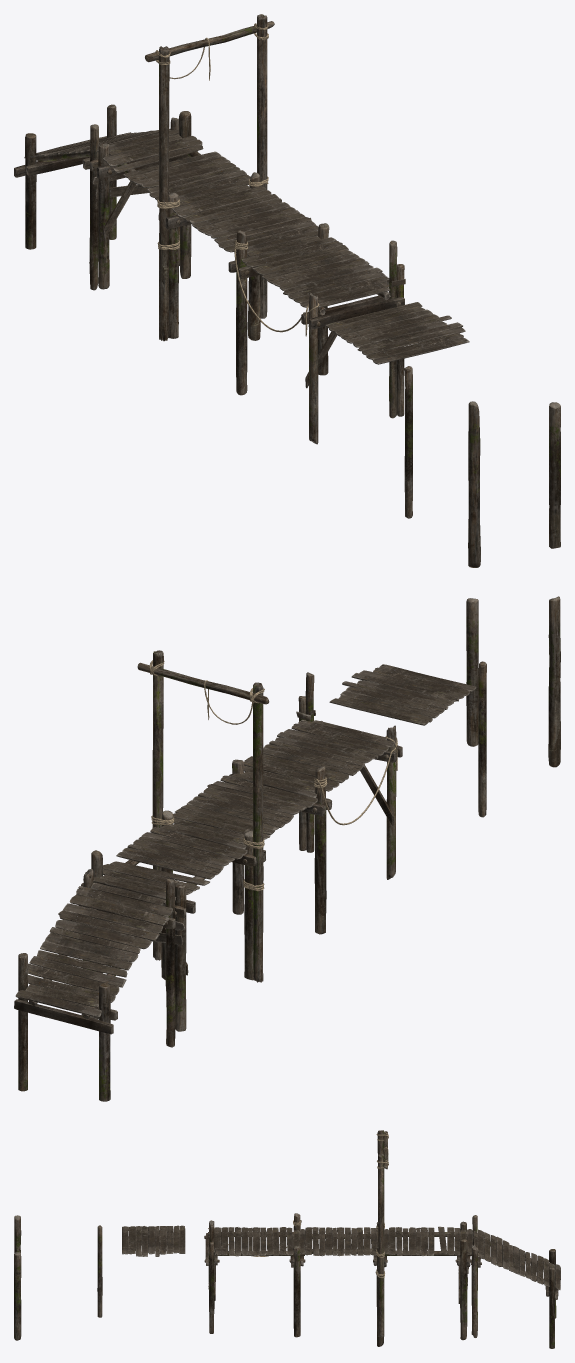
Rendered from modular_wooden_pier.glb.
3 renders of one model, top to bottom at view 1: azimuth 30°, elevation 25°; view 2: azimuth 150°, elevation 25°; view 3: azimuth 270°, elevation 25°, orthographic. The views are drawn at different scales.
Parts seen in each view (by area): view 1: modular_wooden_pier_section_01, modular_wooden_pier_section_03, modular_wooden_pier_section_02, modular_wooden_pier_section_05, modular_wooden_pier_section_04, modular_wooden_pier_planks, modular_wooden_pier_poles; view 2: modular_wooden_pier_section_04, modular_wooden_pier_section_01, modular_wooden_pier_section_03, modular_wooden_pier_section_02, modular_wooden_pier_section_05, modular_wooden_pier_poles, modular_wooden_pier_planks; view 3: modular_wooden_pier_section_01, modular_wooden_pier_section_04, modular_wooden_pier_section_03, modular_wooden_pier_section_02, modular_wooden_pier_planks, modular_wooden_pier_section_05, modular_wooden_pier_poles.
Part boxes in pixels (bbox=[...]): modular_wooden_pier_section_01: bbox=[228, 223, 405, 444]; modular_wooden_pier_section_03: bbox=[89, 111, 250, 289]; modular_wooden_pier_section_02: bbox=[158, 172, 318, 340]; modular_wooden_pier_section_05: bbox=[145, 14, 274, 341]; modular_wooden_pier_section_04: bbox=[14, 104, 179, 290]; modular_wooden_pier_planks: bbox=[325, 302, 469, 364]; modular_wooden_pier_poles: bbox=[404, 366, 560, 567]; modular_wooden_pier_section_04: bbox=[14, 868, 175, 1101]; modular_wooden_pier_section_01: bbox=[229, 672, 402, 934]; modular_wooden_pier_section_03: bbox=[81, 827, 247, 1031]; modular_wooden_pier_section_02: bbox=[160, 775, 317, 980]; modular_wooden_pier_section_05: bbox=[137, 650, 269, 982]; modular_wooden_pier_poles: bbox=[466, 596, 560, 817]; modular_wooden_pier_planks: bbox=[329, 664, 476, 725]; modular_wooden_pier_section_01: bbox=[204, 1213, 305, 1337]; modular_wooden_pier_section_04: bbox=[471, 1215, 560, 1348]; modular_wooden_pier_section_03: bbox=[376, 1221, 473, 1340]; modular_wooden_pier_section_02: bbox=[292, 1222, 389, 1346]; modular_wooden_pier_planks: bbox=[122, 1225, 185, 1256]; modular_wooden_pier_section_05: bbox=[375, 1130, 388, 1337]; modular_wooden_pier_poles: bbox=[14, 1215, 102, 1340].
Bounding box in the file's own units: 3.1 × 7.52 × 19.03.
Materials: 3 (3 with a texture image).
